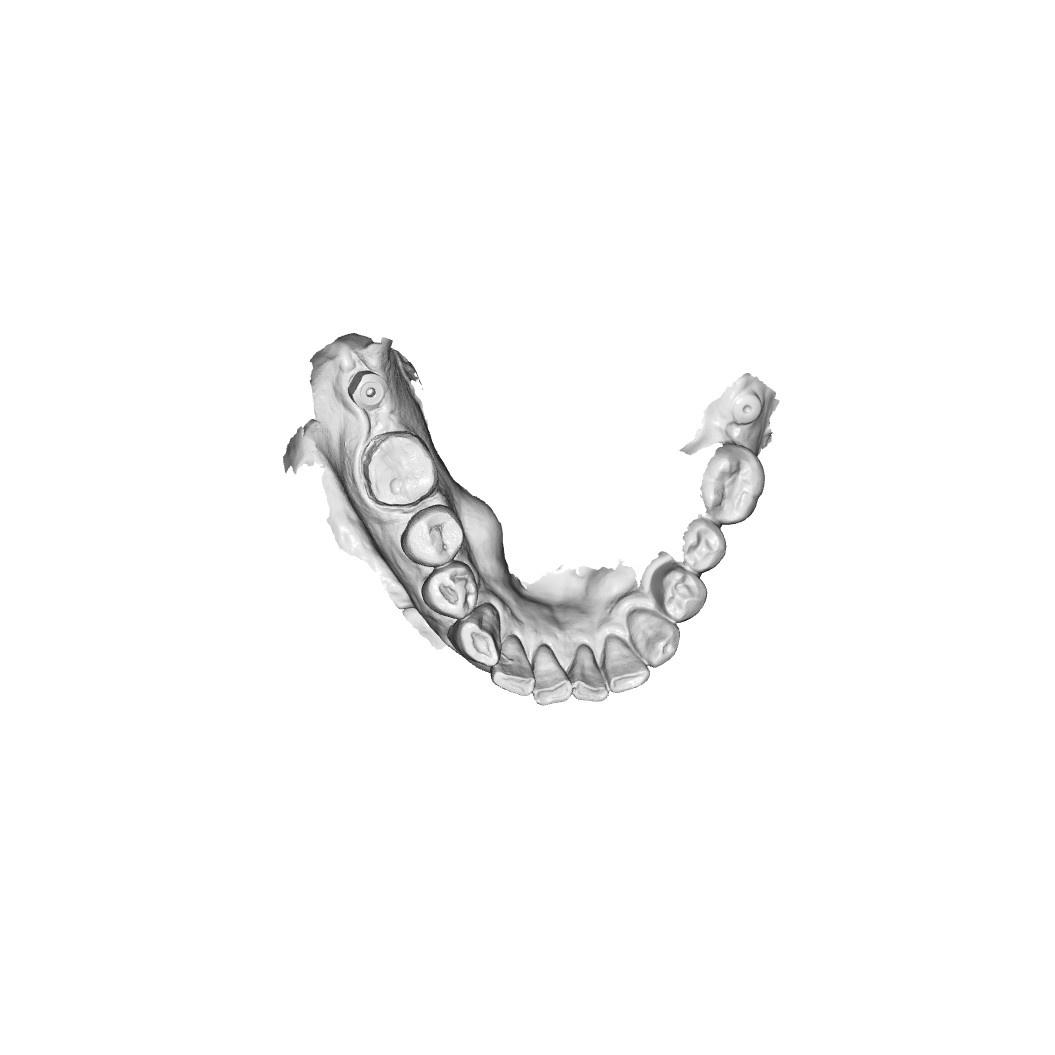canine: (630, 606, 681, 669), (460, 607, 505, 666)
implant: (347, 367, 388, 412), (736, 387, 763, 430)
incisor: (606, 638, 650, 696), (495, 641, 538, 698), (533, 645, 570, 706), (570, 646, 608, 702)
molar: (698, 444, 768, 525), (367, 430, 432, 506)
premolar: (397, 505, 463, 565), (420, 563, 478, 621), (657, 564, 709, 623), (685, 523, 728, 579)
